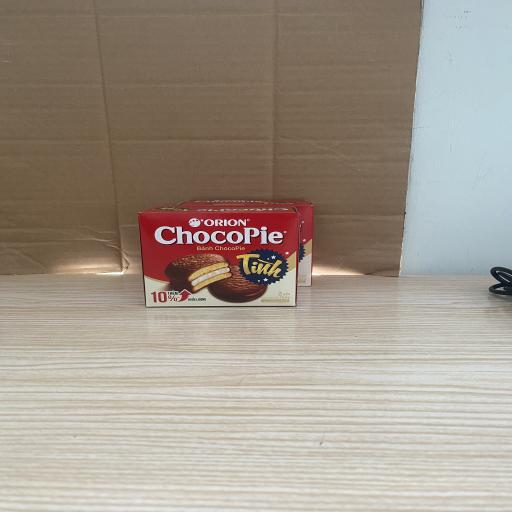chocopie: (137, 204, 301, 307), (176, 198, 314, 286)
